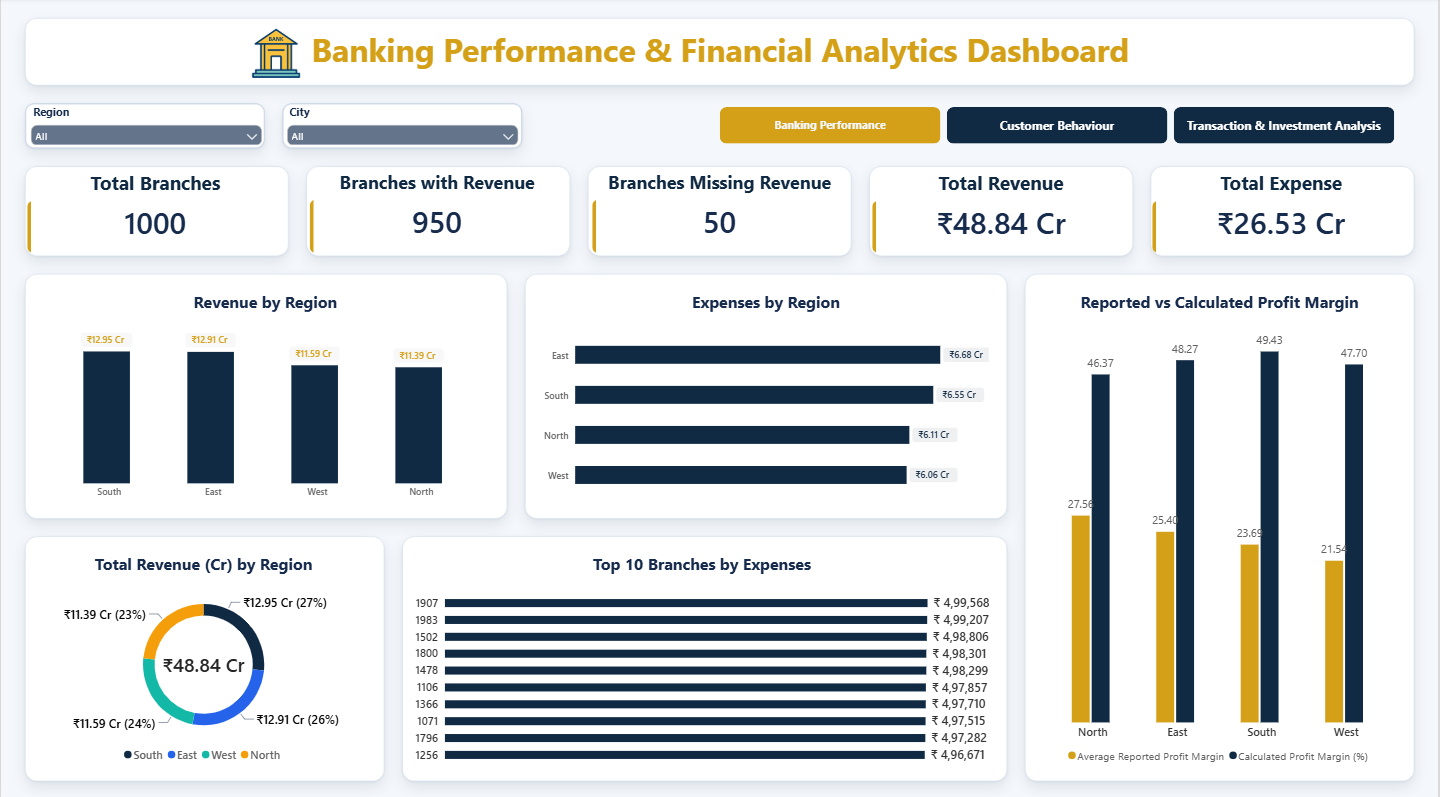

This screenshot's page, from the dashboard's own definition file:
{"tool":"powerbi","page":{"name":"Banking Performance","canvas":[1920,1080],"ordinal":0},"visuals":[{"type":"slicer","fields":{"Values":["Bank_Clean.Region"]},"box":[35,143.3,318.3,53.3],"z":0},{"type":"slicer","fields":{"Values":["Bank_Clean.City"]},"box":[376.7,143.3,318.3,53.3],"z":1000},{"type":"clusteredColumnChart","title":" Revenue by Region","fields":{"Category":["Bank_Clean.Region"],"Y":["Financial_Display.Total Revenue (Cr)"]},"box":[38.7,377.3,629.5,312.9],"z":2000},{"type":"clusteredBarChart","title":"Expenses by Region","fields":{"Category":["Bank_Clean.Region"],"Y":["Financial_Display.Expenses (Cr)"]},"box":[708.6,377.3,627.6,312.9],"z":3000},{"type":"donutChart","fields":{"Category":["Bank_Clean.Region"],"Y":["Financial_Display.Total Revenue (Cr)"]},"box":[35,728.8,471.2,314.7],"z":4000},{"type":"clusteredBarChart","title":"Top 10 Branches by Expenses","fields":{"Category":["Bank_Clean.Branch_ID"],"Y":["Measure.Total Expenses"]},"box":[535.2,728.6,800.7,314.9],"z":5000},{"type":"clusteredColumnChart","title":"Reported vs Calculated Profit Margin","fields":{"Category":["Bank_Clean.Region"],"Y":["Measure.Average Reported Profit Margin","Measure.Calculated Profit Margin (%)"]},"box":[1369.3,377.3,517.2,666.3],"z":6000},{"type":"cardVisual","title":"Total Branches","fields":{"Data":["Measure.Total Branches"]},"box":[35,230.1,342.3,112.3],"z":7000},{"type":"cardVisual","title":"Branches with Revenue","fields":{"Data":["Measure.Branches with Revenue"]},"box":[412.3,230.1,340.5,112.3],"z":8000},{"type":"cardVisual","title":"Branches Missing Revenue","fields":{"Data":["Measure.Branches Missing Revenue"]},"box":[789.6,230.1,340.5,112.3],"z":9000},{"type":"cardVisual","title":"Total Revenue","fields":{"Data":["Financial_Display.Total Revenue (Cr)"]},"box":[1163.2,230.1,344.2,112.3],"z":10000},{"type":"cardVisual","title":"Total Expense","fields":{"Data":["Financial_Display.Total Expenses (Cr)"]},"box":[1538.7,230.1,344.2,112.3],"z":11000},{"type":"textbox","box":[376.6,40.5,1166.9,64.4],"z":12000},{"type":"image","box":[323.9,27.6,87.5,93.8],"z":13000},{"type":"pageNavigator","box":[960.7,147.2,903.7,49.7],"z":14000}]}

Visuals, with their boxes in screenshot pixels (x1, y1, x2, y2), scaled from the page's 1920x1080 canvas onto the 1440x797 screenshot:
slicer - Bank_Clean.Region: [left=26, top=106, right=265, bottom=145]
slicer - Bank_Clean.City: [left=283, top=106, right=521, bottom=145]
" Revenue by Region" clusteredColumnChart: [left=29, top=278, right=501, bottom=509]
"Expenses by Region" clusteredBarChart: [left=531, top=278, right=1002, bottom=509]
donutChart - Bank_Clean.Region x Financial_Display.Total Revenue (Cr): [left=26, top=538, right=380, bottom=770]
"Top 10 Branches by Expenses" clusteredBarChart: [left=401, top=538, right=1002, bottom=770]
"Reported vs Calculated Profit Margin" clusteredColumnChart: [left=1027, top=278, right=1415, bottom=770]
"Total Branches" cardVisual: [left=26, top=170, right=283, bottom=253]
"Branches with Revenue" cardVisual: [left=309, top=170, right=565, bottom=253]
"Branches Missing Revenue" cardVisual: [left=592, top=170, right=848, bottom=253]
"Total Revenue" cardVisual: [left=872, top=170, right=1131, bottom=253]
"Total Expense" cardVisual: [left=1154, top=170, right=1412, bottom=253]
textbox: [left=282, top=30, right=1158, bottom=77]
image: [left=243, top=20, right=309, bottom=90]
pageNavigator: [left=721, top=109, right=1398, bottom=145]
